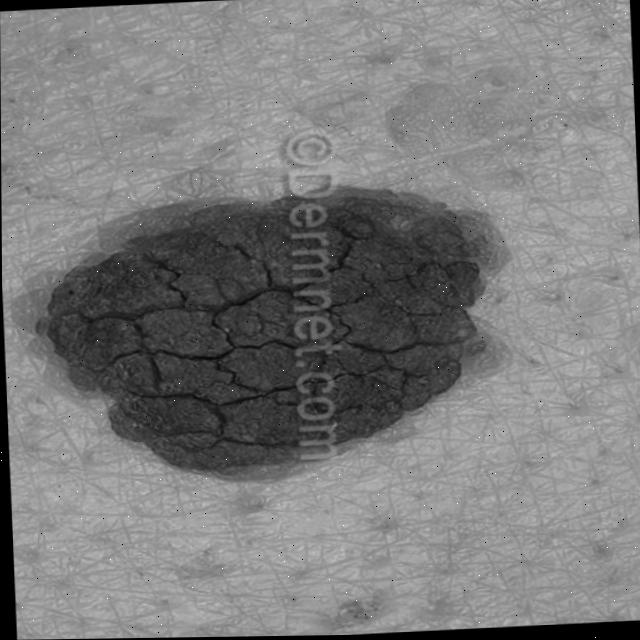Eczema: (64, 179, 480, 484)
